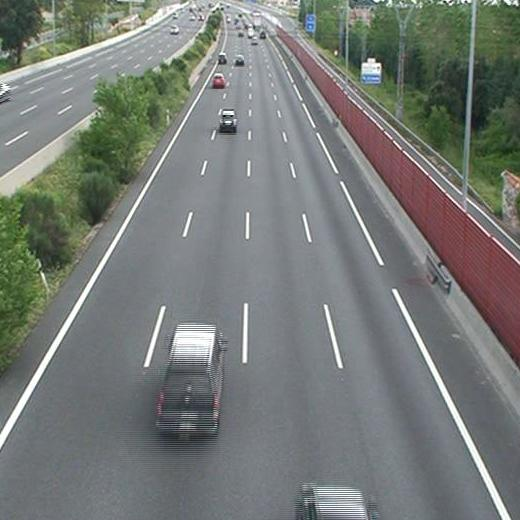car: (157, 325, 222, 431), (220, 110, 236, 130), (213, 74, 225, 87), (218, 53, 226, 64), (235, 56, 243, 64)
